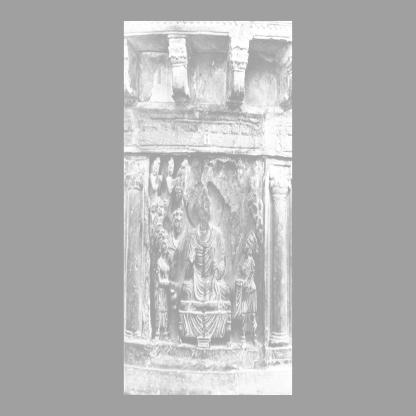buddha-sitting: (178, 182, 232, 340)
